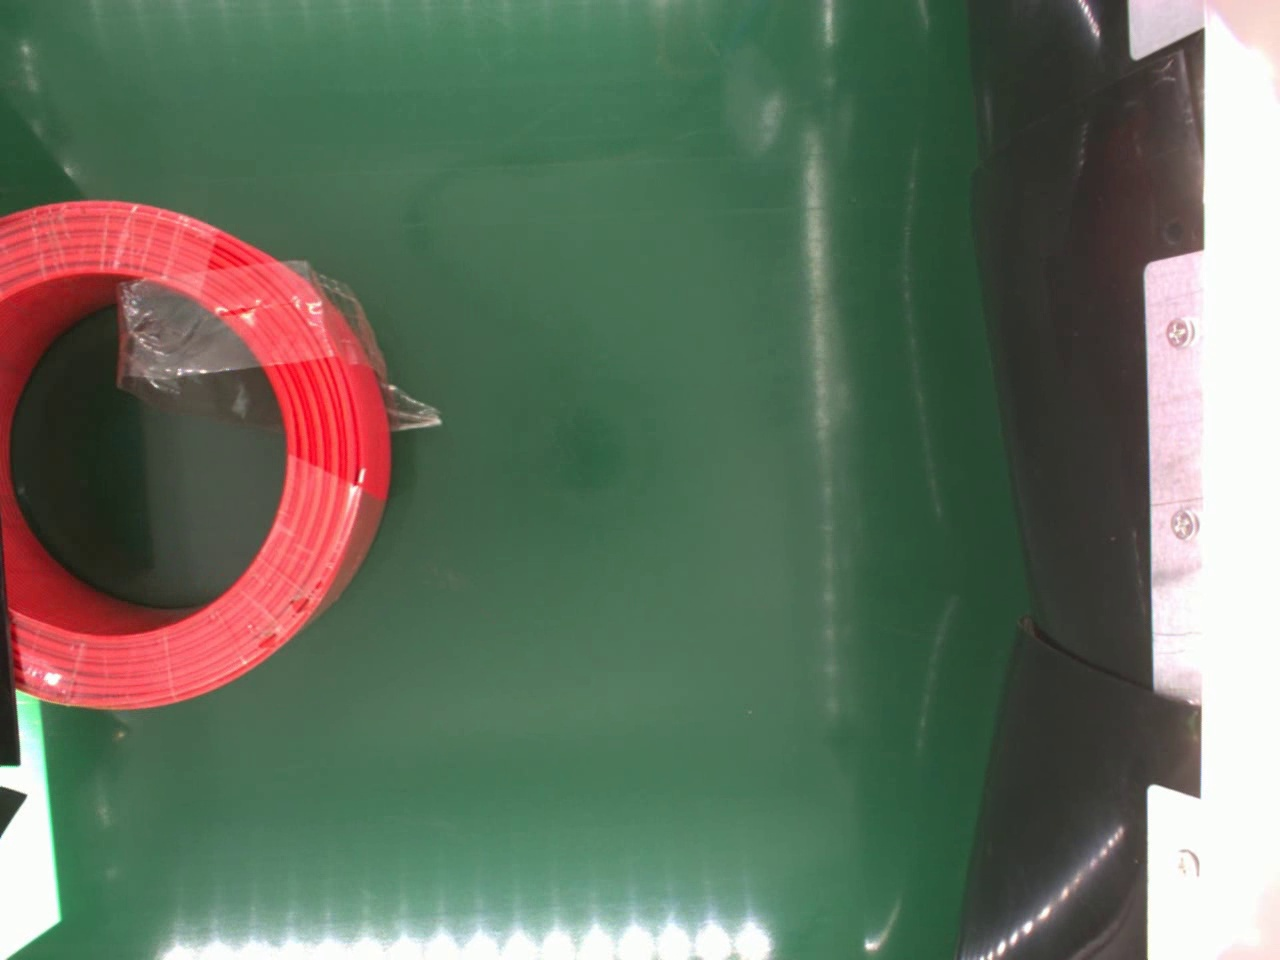red: (0, 196, 394, 713)
